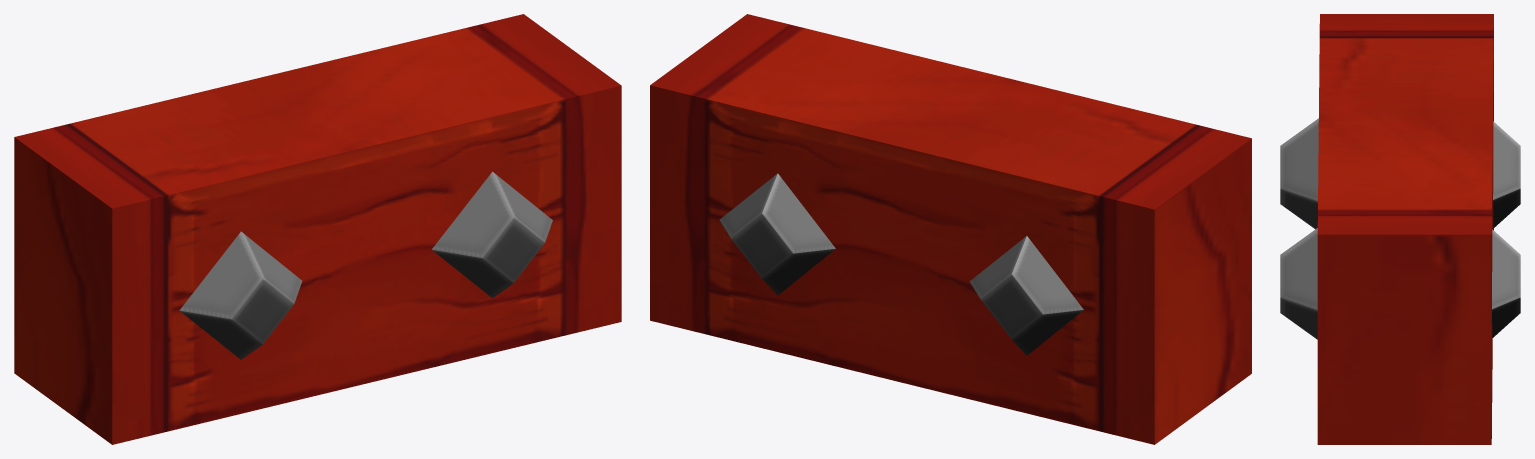
The model's file is fence_rad_01.fbx.
3 views of the same model, side by side, from view 1: azimuth 30°, elevation 25°; view 2: azimuth 150°, elevation 25°; view 3: azimuth 270°, elevation 25° (orthographic). The views are drawn at different scales.
Parts seen in each view (by area): view 1: fence_rad_01; view 2: fence_rad_01; view 3: fence_rad_01.
Part boxes in pixels (bbox=[...]): fence_rad_01: bbox=[14, 14, 621, 444]; fence_rad_01: bbox=[650, 14, 1251, 444]; fence_rad_01: bbox=[1280, 14, 1520, 444].
Size of the model in its own units: 90 by 40 by 41.41.
